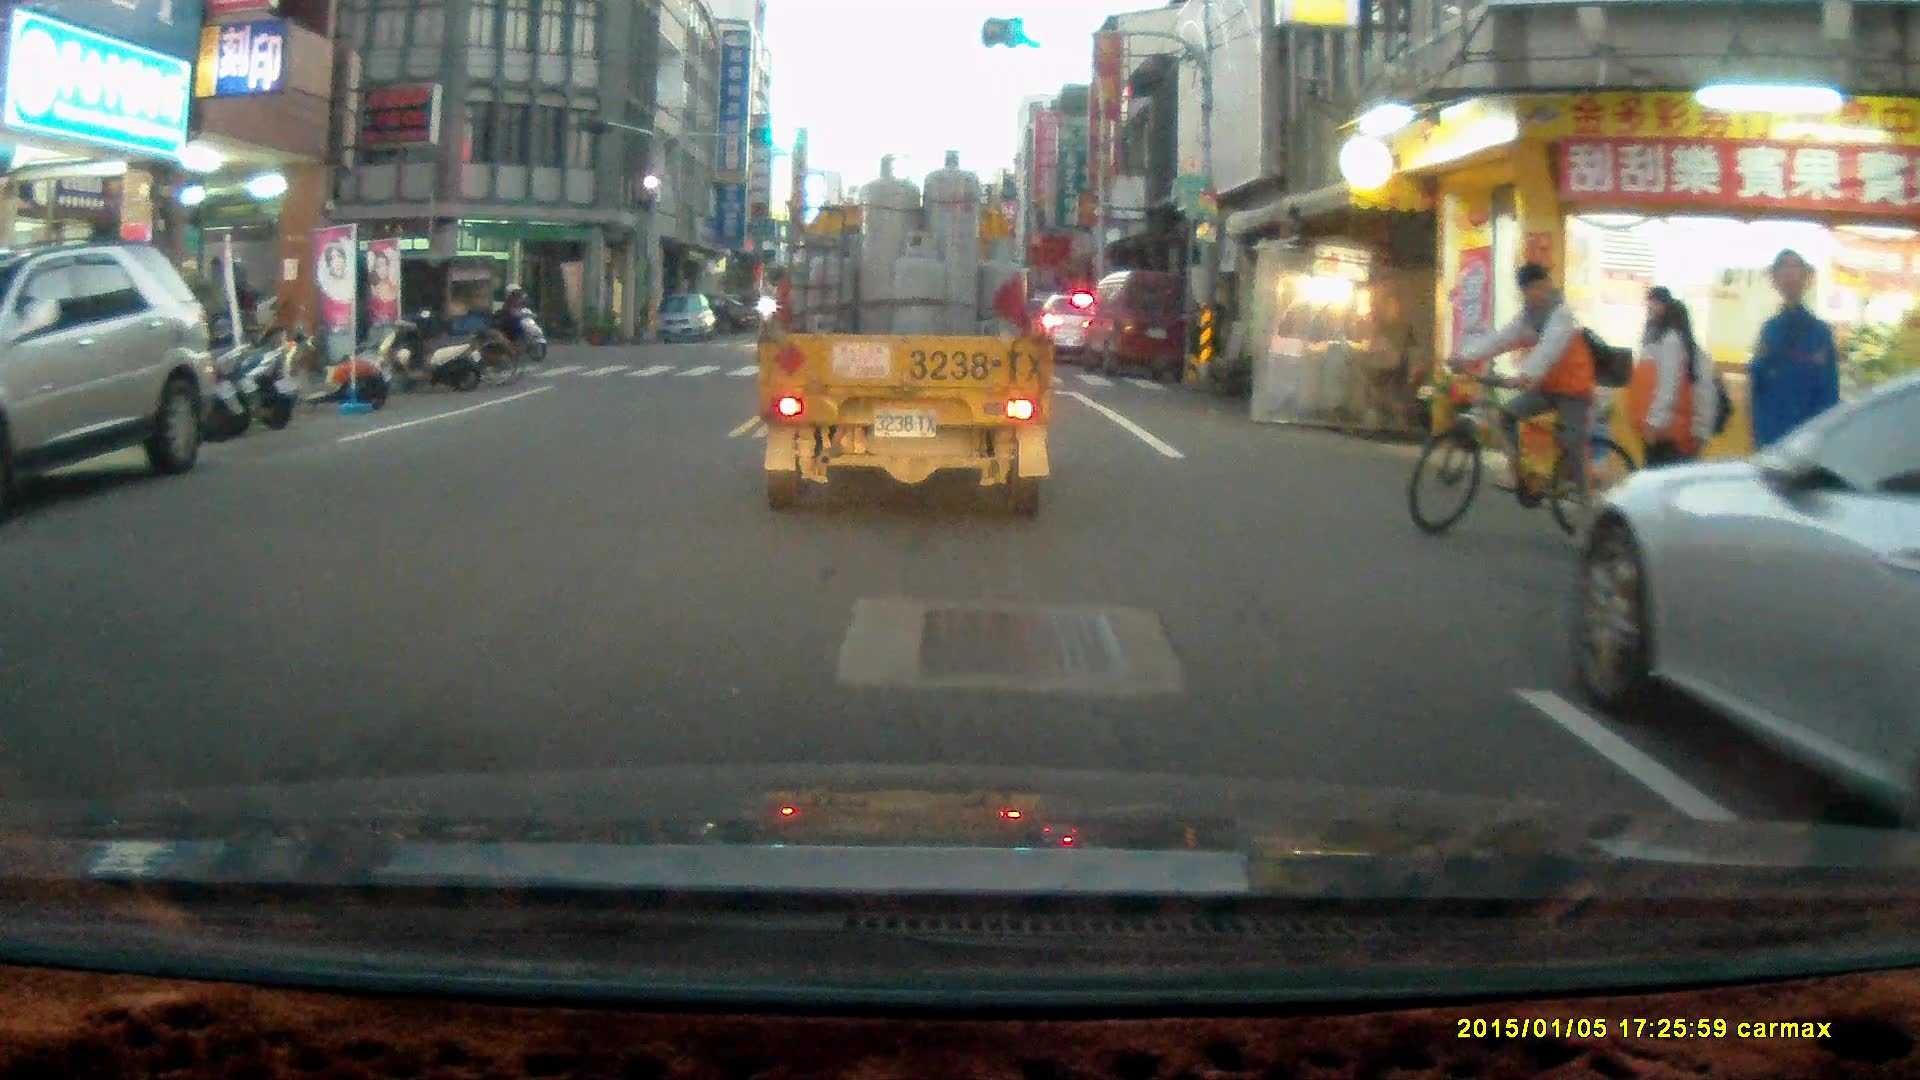pedestrian: (1741, 249, 1843, 564), (1624, 284, 1695, 545)
rider: (1408, 262, 1639, 548), (474, 282, 540, 367)
vehicle: (1569, 363, 1920, 826), (753, 161, 1041, 518), (1, 245, 218, 507), (333, 250, 498, 364), (1085, 267, 1198, 381), (1036, 293, 1101, 362), (654, 291, 721, 350)
